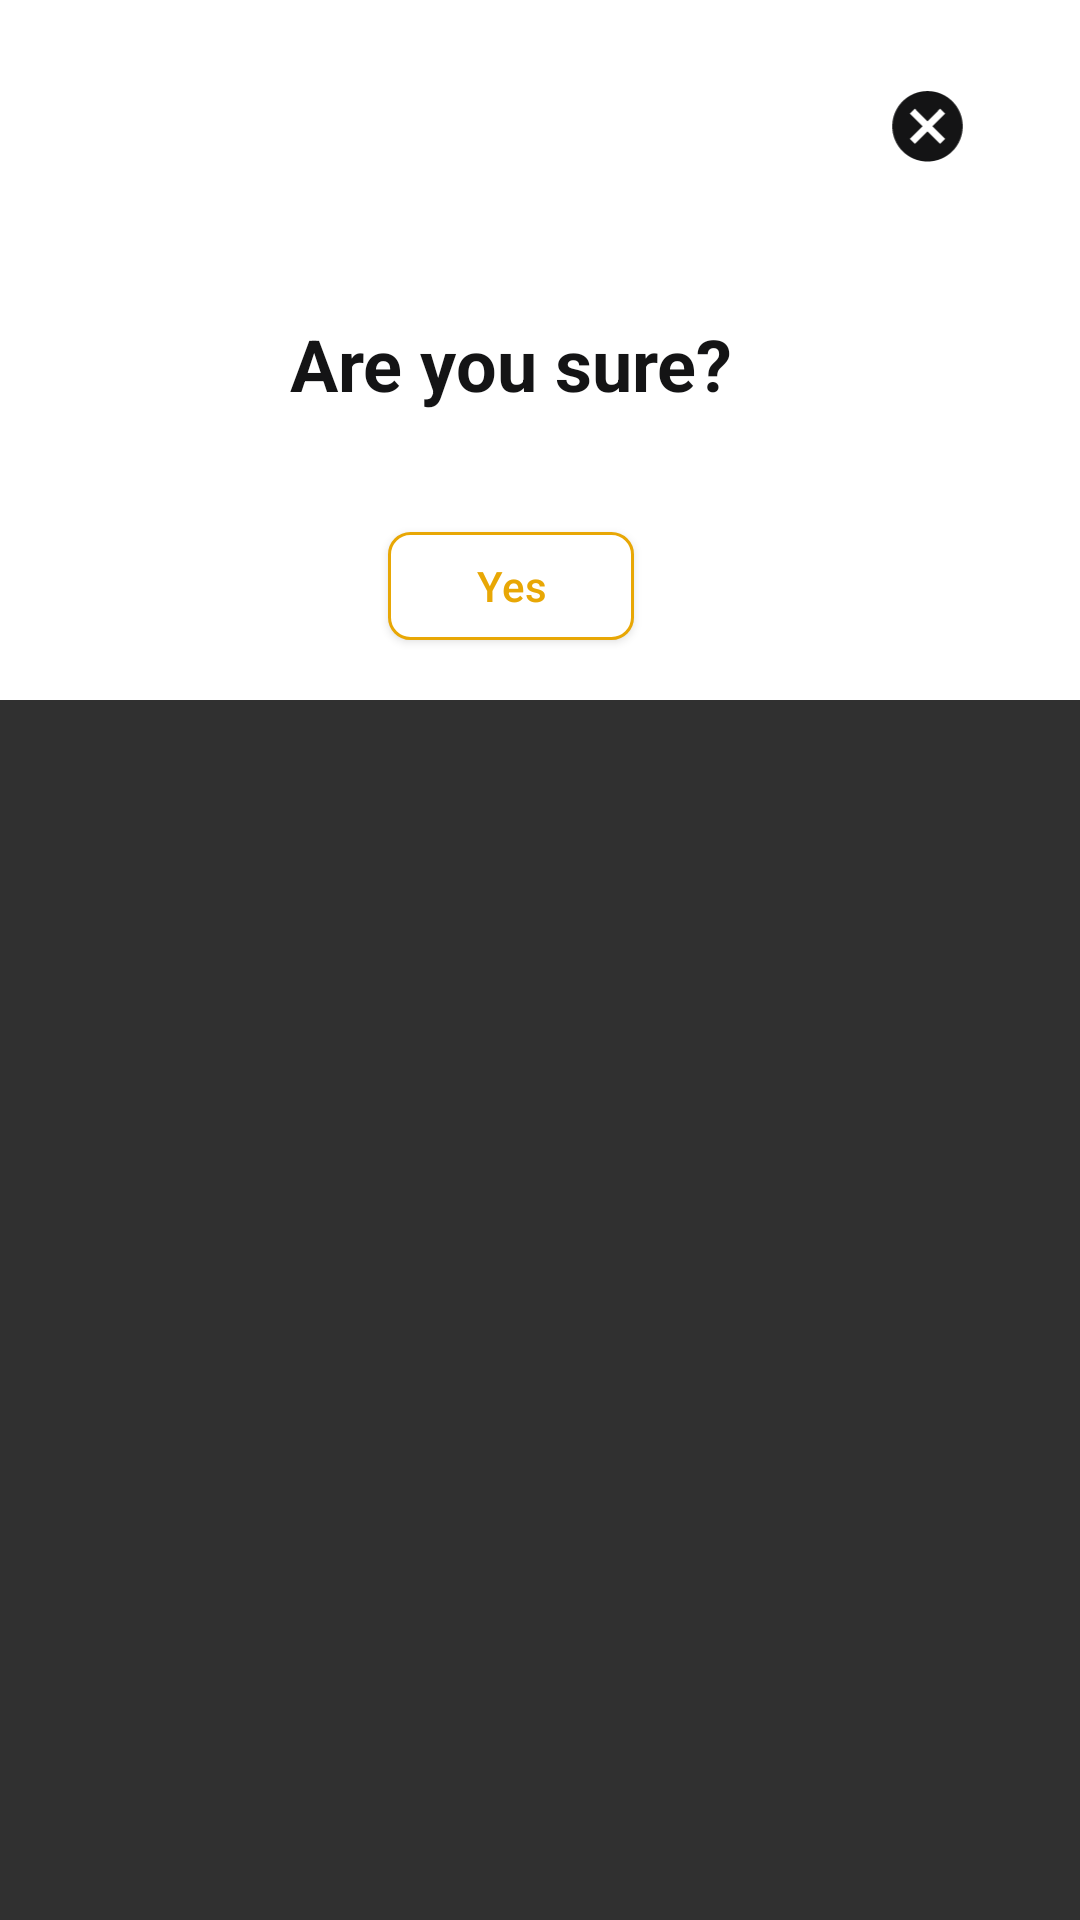

Named icons in this screenshot (1080*1920) and their centers, [x,y]:
cancel: [927,126]
